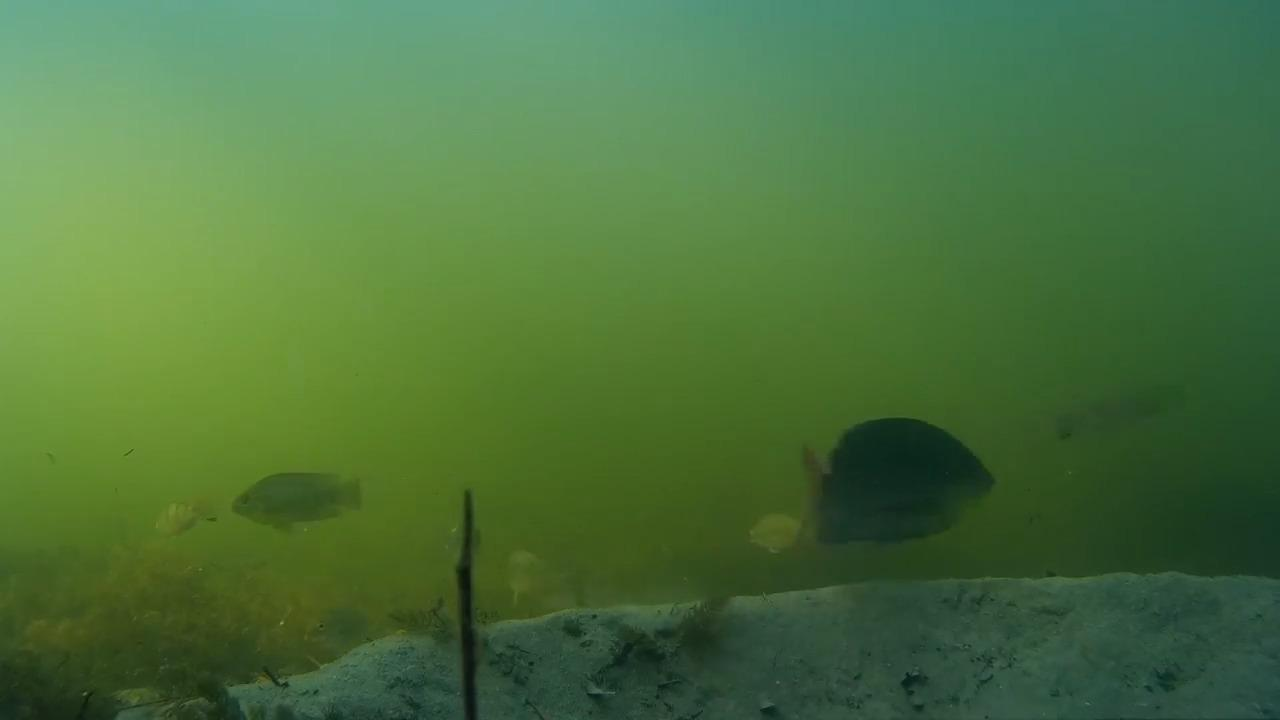Tilapia: (800, 416, 993, 558), (1035, 378, 1180, 476), (222, 474, 379, 532), (147, 488, 218, 558), (495, 538, 562, 594), (733, 504, 802, 552)
